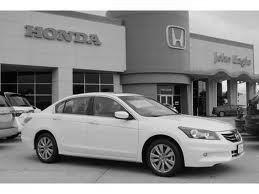car: (24, 93, 244, 177)
